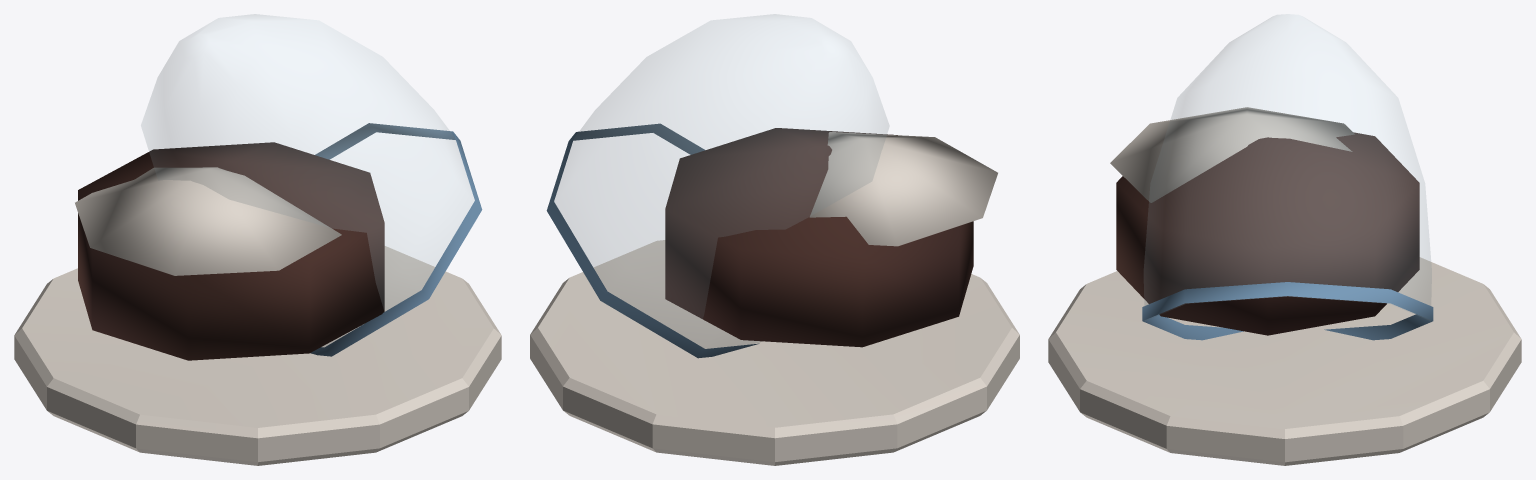
The model's file is cargo_pudding_ruined.glb.
3 renders of one model, left to right at view 1: azimuth 30°, elevation 25°; view 2: azimuth 150°, elevation 25°; view 3: azimuth 270°, elevation 25°, orthographic. The views are drawn at different scales.
Parts seen in each view (by area): view 1: cargo_pudding_ruined; view 2: cargo_pudding_ruined; view 3: cargo_pudding_ruined.
Boxes of the visible parts, left/top/right/bottom form: cargo_pudding_ruined: left=14, top=14, right=501, bottom=465; cargo_pudding_ruined: left=530, top=14, right=1019, bottom=465; cargo_pudding_ruined: left=1048, top=14, right=1521, bottom=465.
Size of the model in its own units: 0.5 by 0.3904 by 0.5.
